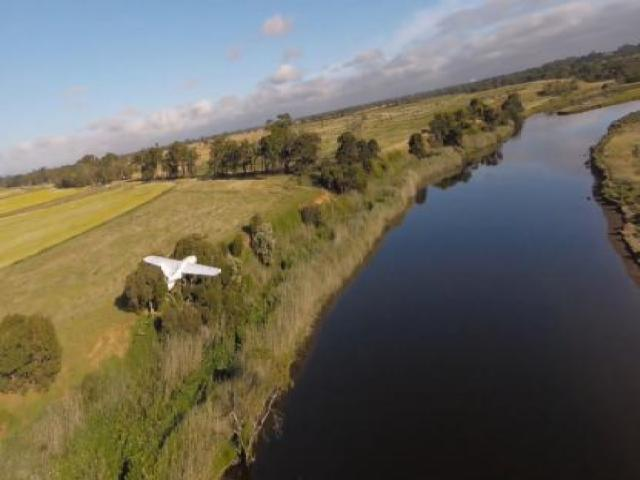uav: (141, 247, 221, 292)
